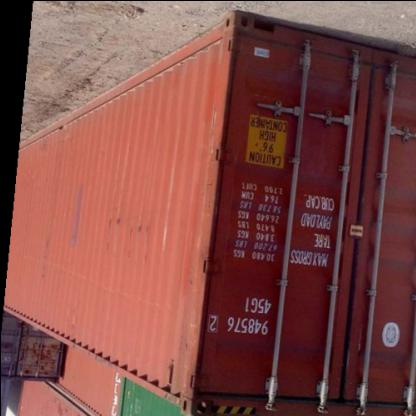Damage: (168, 172, 216, 412), (90, 214, 178, 252)
